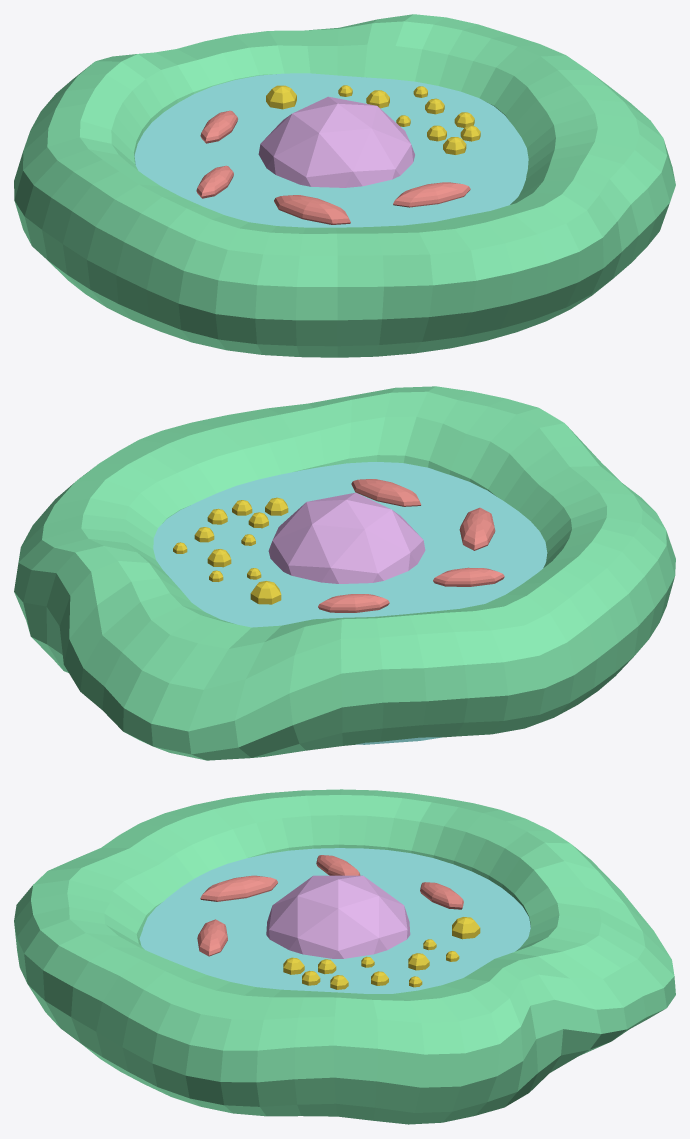
File: Cell.fbx
The picture shows the model from 3 angles, top to bottom: view 1: azimuth 30°, elevation 25°; view 2: azimuth 150°, elevation 25°; view 3: azimuth 270°, elevation 25°; orthographic projection. The views are drawn at different scales.
Visible parts, largest first — view 1: Cell; view 2: Cell; view 3: Cell.
Boxes of the visible parts, box(x1,y1,x2,y2) form: Cell: box(14, 14, 675, 357); Cell: box(14, 386, 675, 760); Cell: box(14, 789, 675, 1124).
Bounding box in the file's own units: 499 × 136 × 554.
